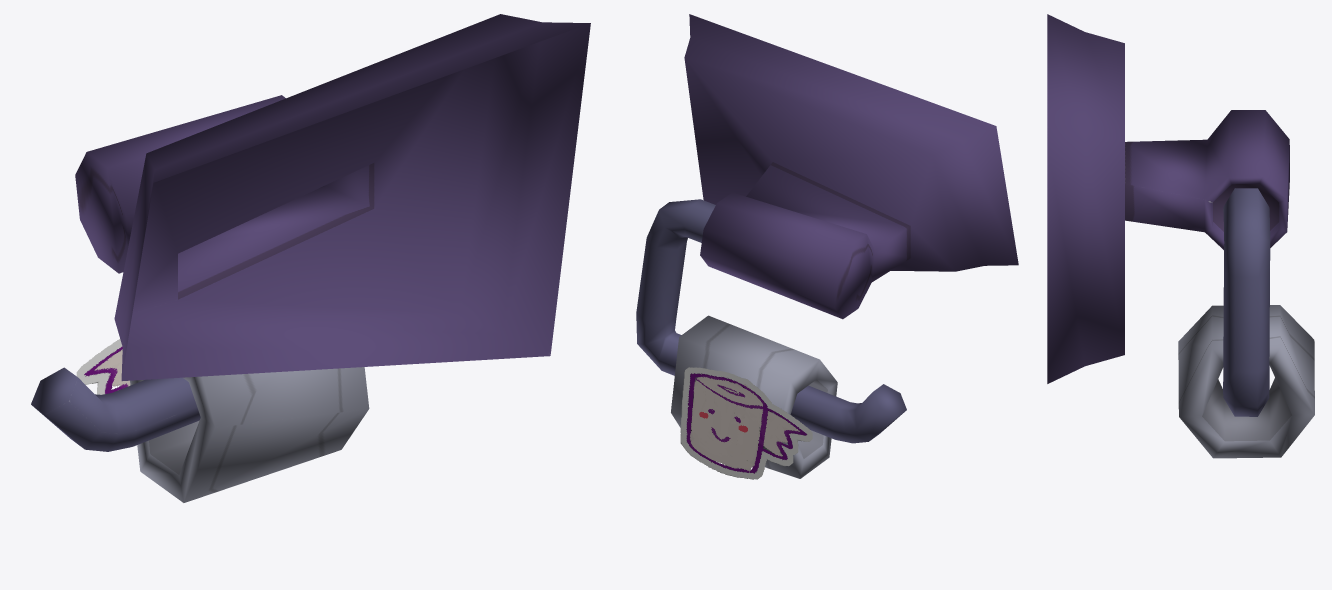
The model's file is PAPEL.fbx.
3 renders of one model, left to right at view 1: azimuth 30°, elevation 25°; view 2: azimuth 150°, elevation 25°; view 3: azimuth 270°, elevation 25°, orthographic. The views are drawn at different scales.
Visible parts, largest first — view 1: portapapeles_papel, Plane.004; view 2: portapapeles_papel, Plane.004; view 3: portapapeles_papel.
Part boxes in pixels (box(x1,y1,x2,y2)): portapapeles_papel: box(31, 14, 590, 502); Plane.004: box(76, 339, 130, 394); portapapeles_papel: box(636, 14, 1018, 478); Plane.004: box(680, 367, 812, 479); portapapeles_papel: box(1047, 14, 1314, 458).
Bounding box in the file's own units: 127 × 150 × 79.58.
Materials: 2 (2 with a texture image).
